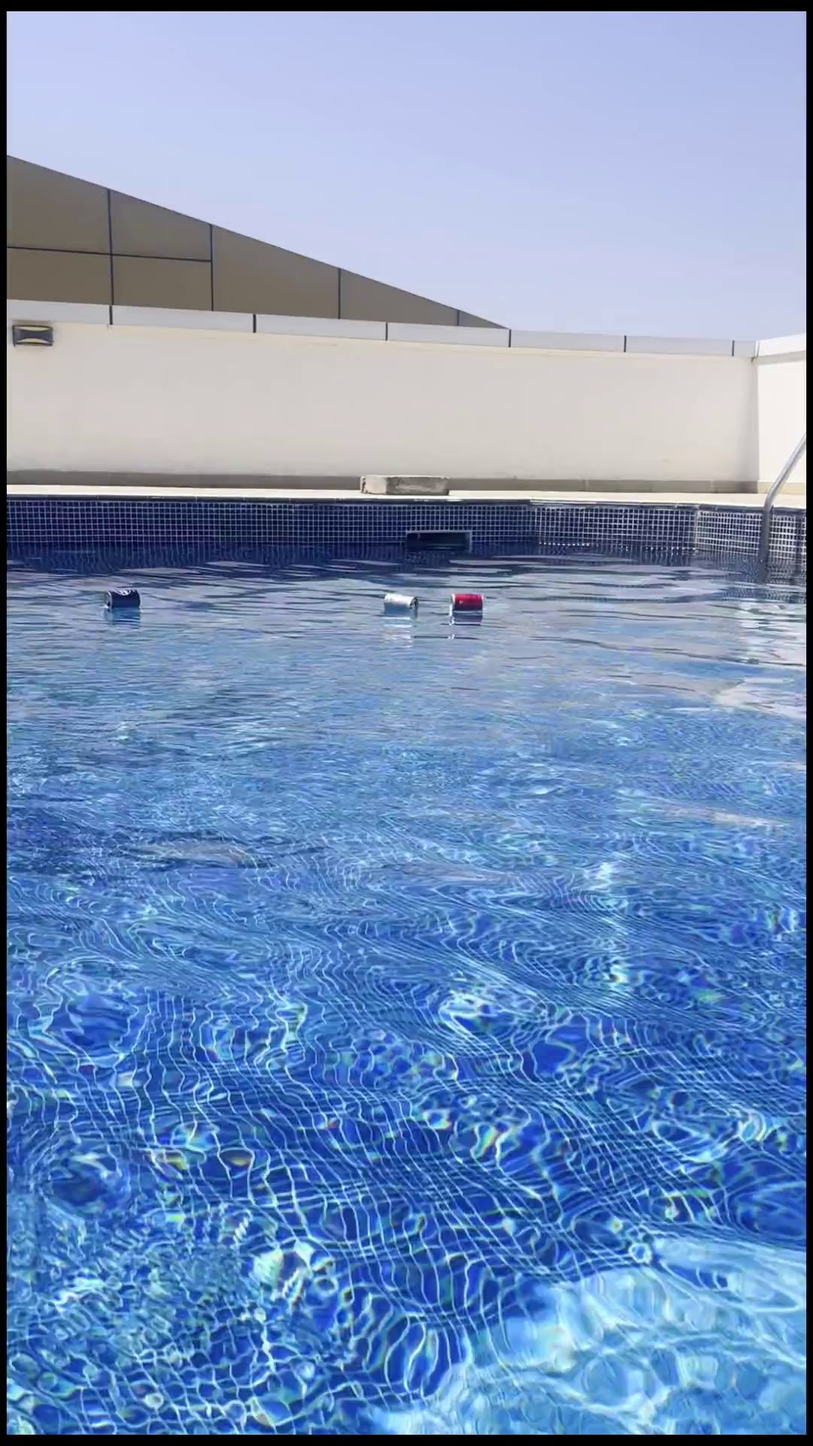debris: (379, 578, 419, 629), (97, 582, 142, 627), (446, 587, 484, 622)
